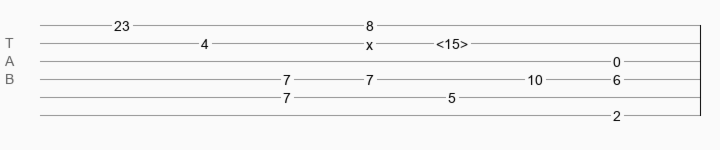0: (613, 54, 621, 64)
10: (527, 72, 543, 82)
2: (613, 108, 621, 118)
23: (114, 18, 130, 28)
4: (201, 36, 209, 46)
5: (448, 90, 456, 100)
6: (613, 72, 621, 82)
7: (283, 90, 291, 100), (283, 72, 291, 82), (366, 72, 374, 82)
8: (366, 18, 374, 28)
harmonic: (436, 36, 468, 46)
x: (366, 37, 373, 45)
